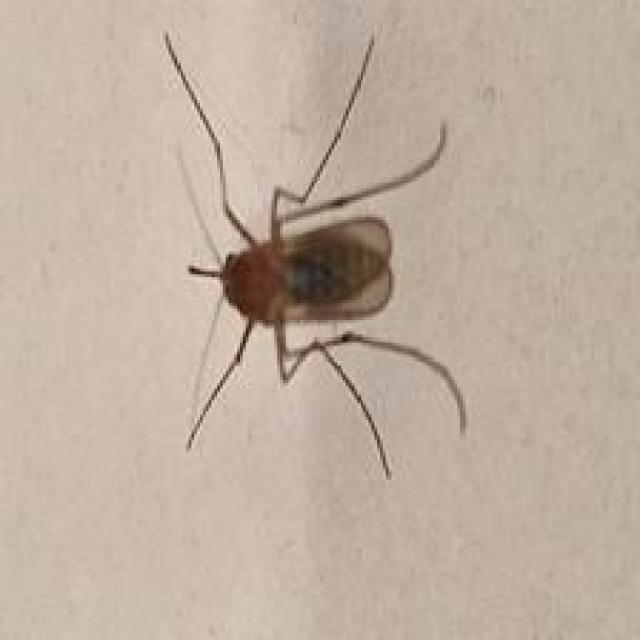Culex: (160, 26, 469, 480)
